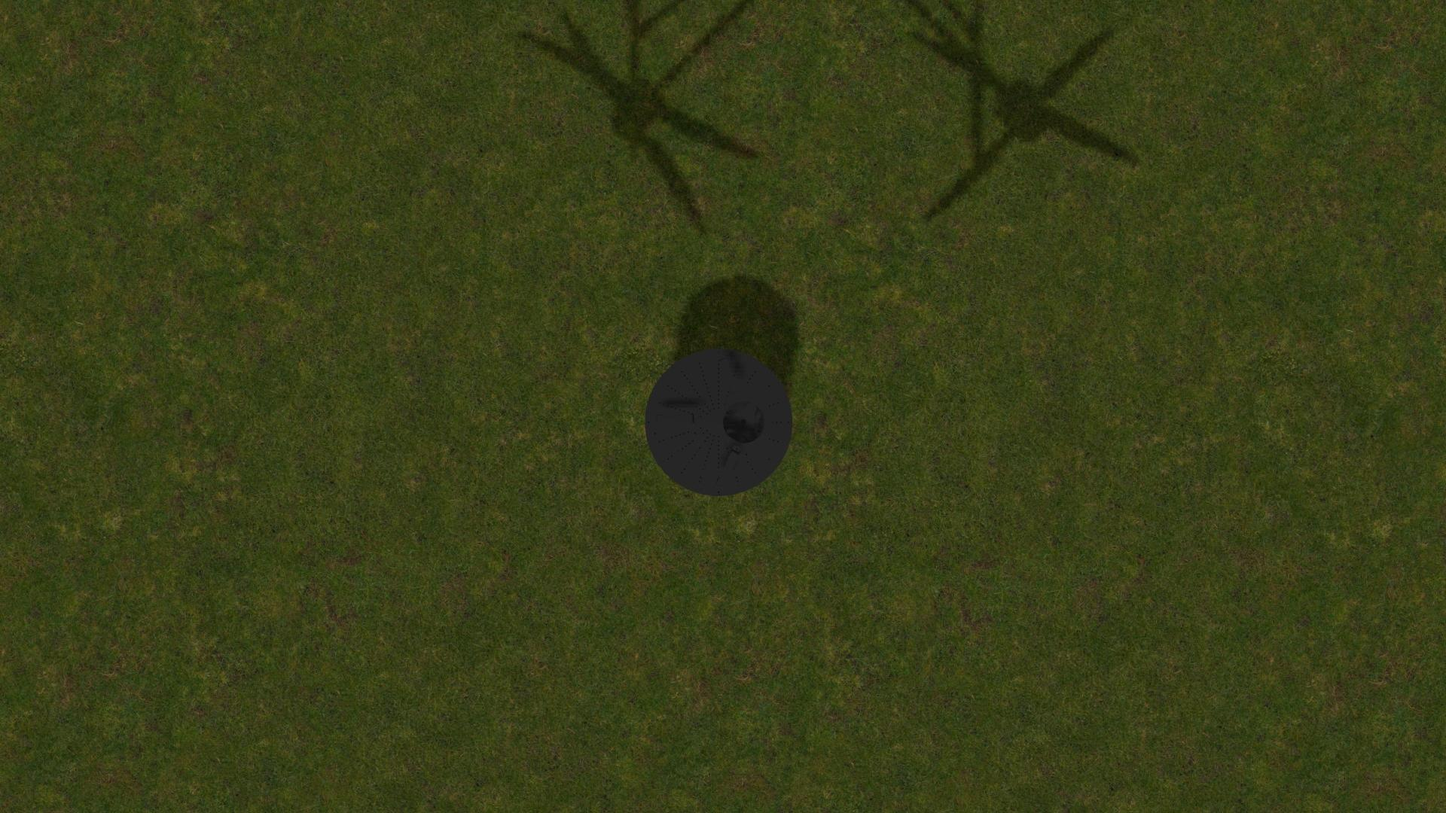alca: (714, 445, 742, 490), (716, 354, 742, 398), (653, 414, 699, 425)
armadilha: (645, 348, 793, 496)
